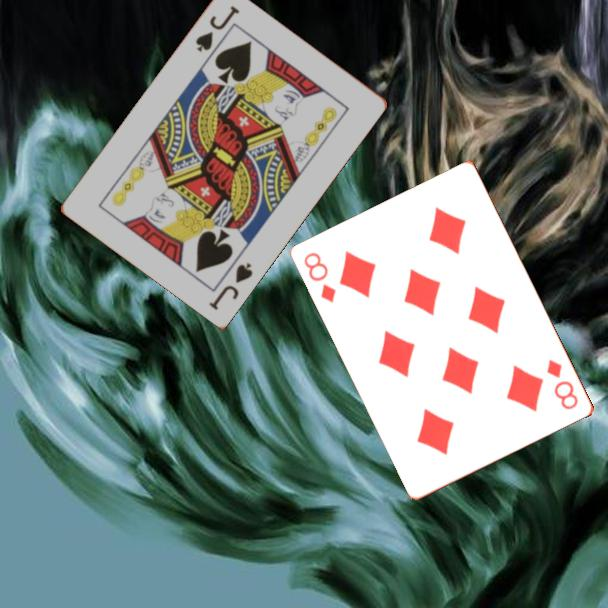d08: (301, 249, 339, 306), (544, 356, 581, 413)
s11: (205, 259, 256, 313), (192, 1, 242, 55)
